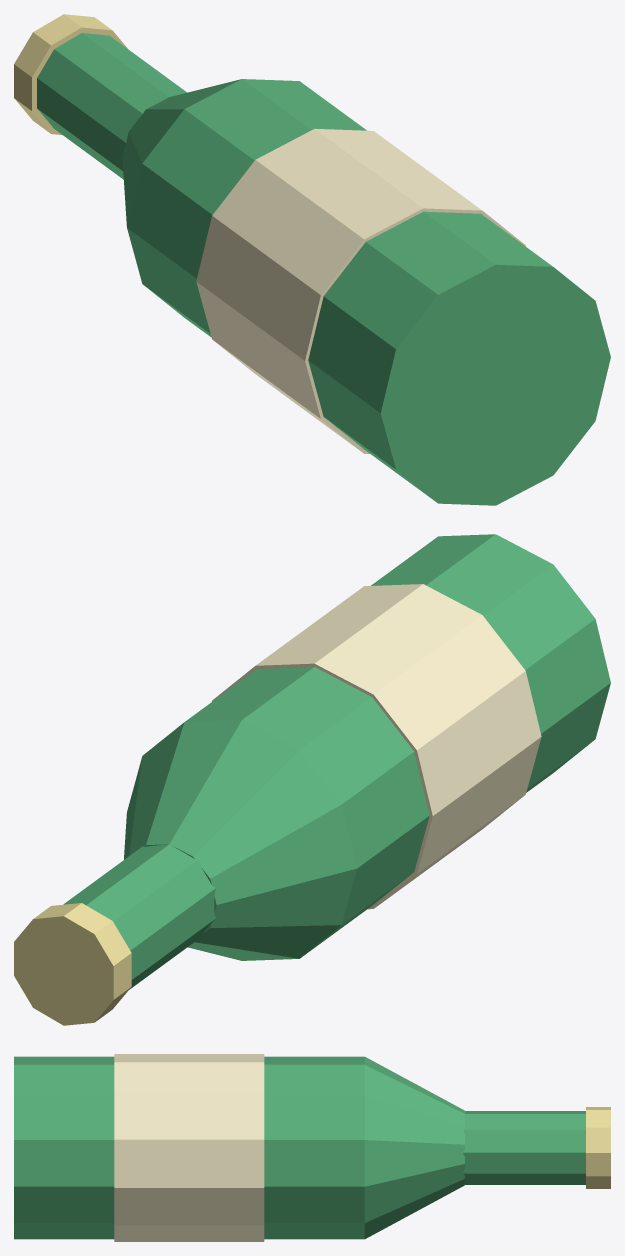
Rendered from bottle.glb.
The picture shows the model from 3 angles, top to bottom: view 1: azimuth 30°, elevation 25°; view 2: azimuth 150°, elevation 25°; view 3: azimuth 270°, elevation 25°; orthographic projection. The views are drawn at different scales.
Visible parts, largest first — view 1: Bottle; view 2: Bottle; view 3: Bottle.
Boxes of the visible parts, x1,y1,x2,y2 form: Bottle: [14, 14, 610, 505]; Bottle: [14, 534, 610, 1025]; Bottle: [14, 1054, 610, 1241].
Size of the model in its own units: 0.226 by 0.226 by 0.715.
